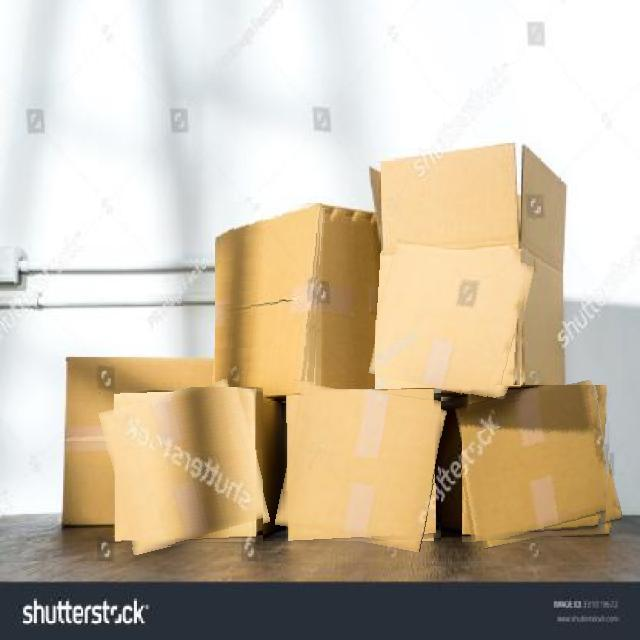BoxFace: (106, 387, 263, 548), (281, 389, 441, 546), (462, 385, 616, 543), (375, 244, 528, 396), (215, 203, 322, 395)
